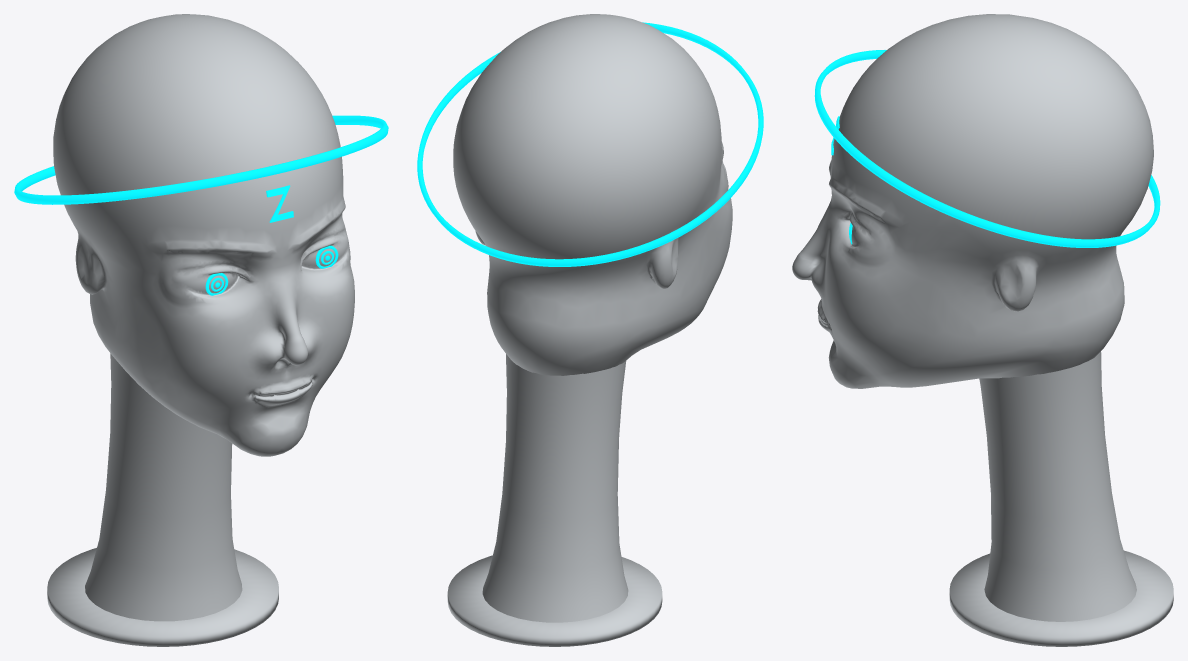
Rendered from zeta.glb.
3 renders of one model, left to right at view 1: azimuth 30°, elevation 25°; view 2: azimuth 150°, elevation 25°; view 3: azimuth 270°, elevation 25°, orthographic. The views are drawn at different scales.
Visible parts, largest first — view 1: Head, Body, Halo; view 2: Head, Body, Halo; view 3: Head, Body, Halo.
Part boxes in pixels (x1=…): Head: x1=53, y1=14, x2=354, y2=456; Body: x1=47, y1=353, x2=278, y2=646; Halo: x1=14, y1=115, x2=388, y2=204; Head: x1=453, y1=14, x2=732, y2=375; Body: x1=447, y1=354, x2=662, y2=646; Halo: x1=417, y1=22, x2=763, y2=266; Head: x1=792, y1=14, x2=1153, y2=388; Body: x1=949, y1=351, x2=1173, y2=646; Halo: x1=814, y1=50, x2=1160, y2=247.
Size of the model in its own units: 0.4064 by 0.7001 by 0.4221.
